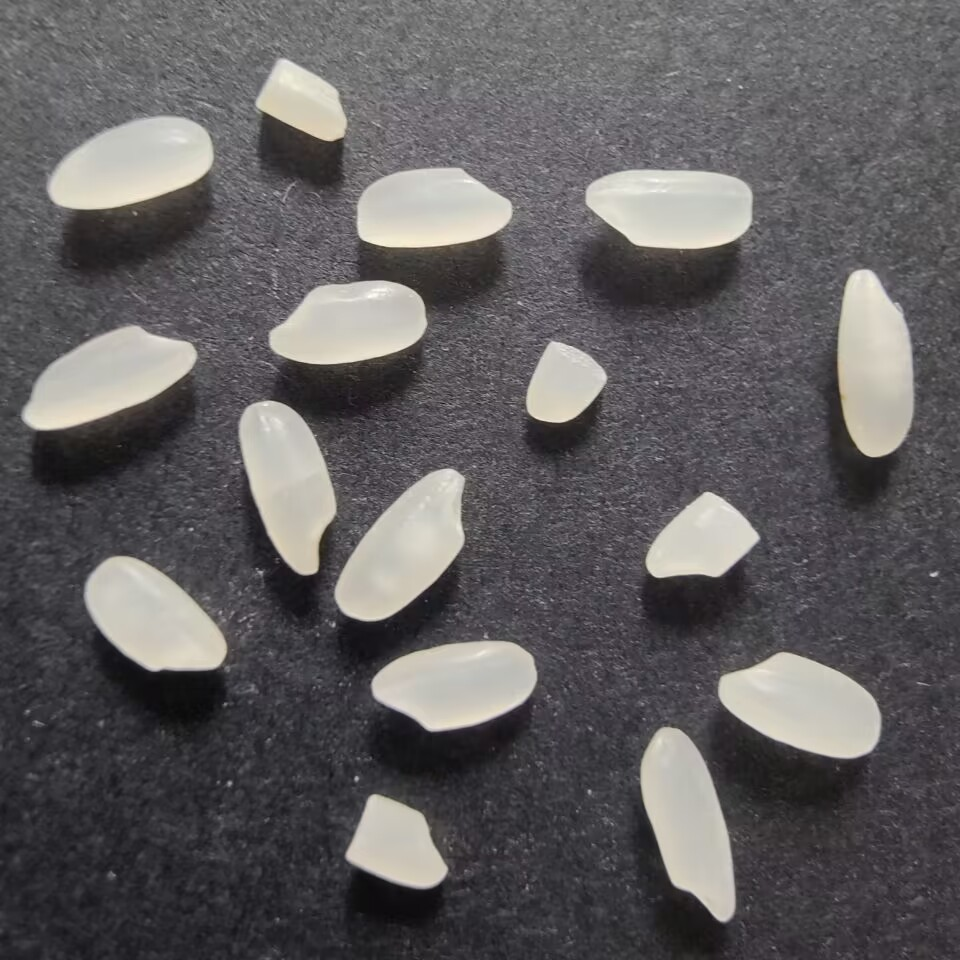broken: (637, 487, 769, 586), (334, 790, 457, 896), (251, 53, 353, 147), (515, 338, 612, 430)
rice: (331, 461, 475, 625), (14, 318, 205, 434), (636, 724, 740, 929), (711, 648, 891, 764), (79, 550, 229, 682), (234, 399, 342, 582), (45, 112, 219, 216), (832, 262, 921, 462), (366, 638, 541, 734), (576, 165, 760, 252), (258, 278, 433, 366), (350, 162, 519, 253)
